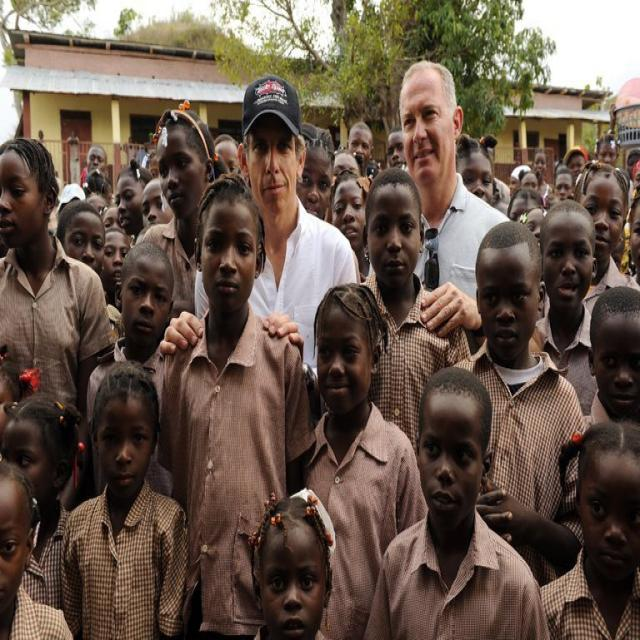body: (148, 163, 316, 639), (158, 72, 364, 430), (354, 362, 554, 639), (449, 219, 588, 589), (303, 279, 430, 640), (1, 133, 117, 511), (364, 54, 514, 342), (59, 359, 190, 639), (358, 165, 475, 461), (84, 239, 196, 497), (536, 418, 640, 639), (0, 391, 86, 612), (55, 135, 172, 282), (142, 106, 218, 324), (528, 198, 598, 417), (534, 198, 603, 418), (246, 487, 336, 640), (504, 118, 640, 212), (2, 450, 76, 611), (571, 155, 640, 318), (581, 283, 640, 440), (331, 116, 407, 186), (328, 167, 372, 284), (294, 137, 337, 220), (452, 133, 497, 209), (0, 345, 21, 432), (611, 210, 640, 273), (212, 130, 245, 179), (524, 210, 540, 233)
